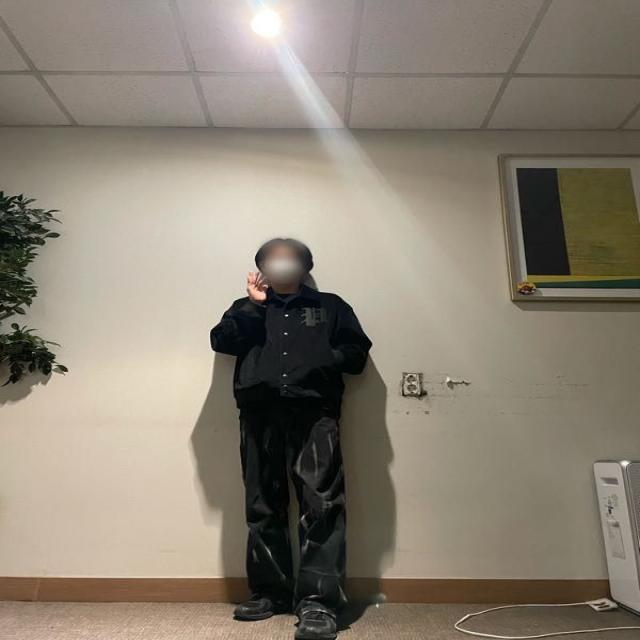denimpants: (242, 394, 349, 614)
jacket: (212, 290, 375, 418)
